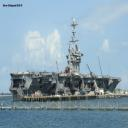Portanaves: (10, 15, 124, 104)
